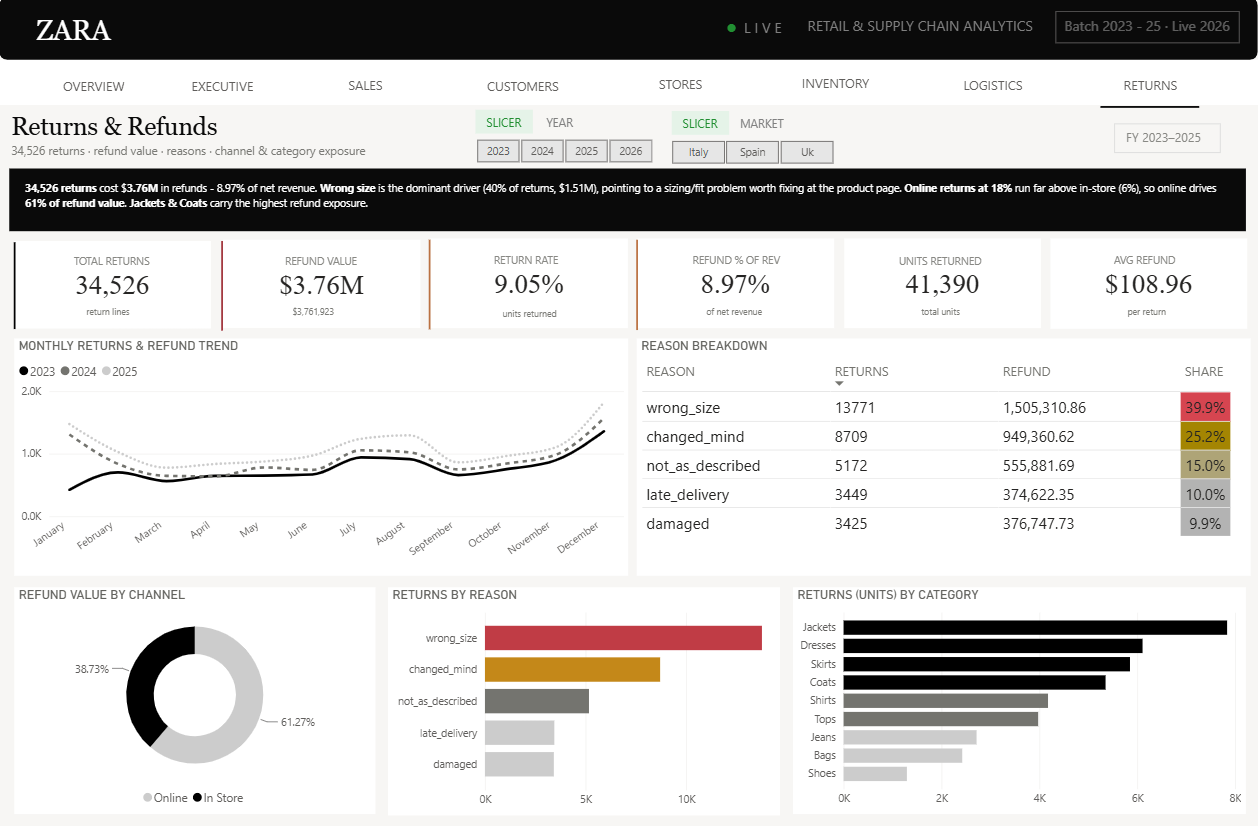

What the dashboard file says about the page in this screenshot:
{"tool":"powerbi","page":{"name":"RETURNS","canvas":[1440,950],"ordinal":7},"visuals":[{"type":"shape","box":[1.7,1.7,1438.3,71.7],"z":0},{"type":"textbox","box":[39.2,16.2,112.2,48.6],"z":1000},{"type":"shape","box":[0,73.3,1440,51.7],"z":2000},{"type":"textbox","box":[10,129.1,292.7,50.9],"z":3000},{"type":"textbox","box":[10,162.7,527.3,29.1],"z":4000},{"type":"textbox","box":[1275,146.2,121.2,33.8],"z":5000},{"type":"shape","box":[13.3,196.7,1413.3,71.7],"z":6000},{"type":"textbox","box":[26.1,204.3,1382.6,58],"z":7000},{"type":"card","fields":{"Values":["_Measures.Units Returned"]},"box":[967.7,277.7,224.6,102.3],"z":8000},{"type":"card","fields":{"Values":["_Measures.Refund % of Revenue"]},"box":[730,277.7,225.4,102.3],"z":9000},{"type":"card","fields":{"Values":["_Measures.Total Returns"]},"box":[18.5,280,224.6,100],"z":10000},{"type":"card","fields":{"Values":["_Measures.Refund Value"]},"box":[256.9,279.2,225.4,100.8],"z":11000},{"type":"card","fields":{"Values":["_Measures.Return Rate"]},"box":[493.8,277.7,225.4,102.3],"z":12000},{"type":"shape","box":[12.3,280.8,12.3,99.2],"z":13000},{"type":"textbox","box":[80.8,288.5,109.2,29.2],"z":14000},{"type":"textbox","box":[95.4,346.2,71.5,29.2],"z":15000},{"type":"textbox","box":[323.1,288.5,110,29.2],"z":16000},{"type":"textbox","box":[561.1,287.8,100,30],"z":17000},{"type":"textbox","box":[788.3,287.8,129.4,30],"z":18000},{"type":"textbox","box":[804.4,345.6,83.9,28.9],"z":19000},{"type":"textbox","box":[1023.8,288.5,139.2,29.2],"z":20000},{"type":"textbox","box":[1049.4,346.1,67.2,27.8],"z":21000},{"type":"card","fields":{"Values":["_Measures.Avg Refund per Return"]},"box":[1202.3,276.9,224.6,103.1],"z":22000},{"type":"textbox","box":[1270,287.8,88.3,30],"z":23000},{"type":"textbox","box":[1286.1,346.1,56.1,27.8],"z":24000},{"type":"shape","box":[487.8,278.3,12.2,102.8],"z":25000},{"type":"textbox","box":[571.1,346.7,76.7,28.9],"z":26000},{"type":"lineChart","title":"MONTHLY RETURNS & REFUND TREND","fields":{"Category":["gold dim_date.full_date.Variation.Date Hierarchy.Year","gold dim_date.full_date.Variation.Date Hierarchy.Quarter","gold dim_date.full_date.Variation.Date Hierarchy.Month","gold dim_date.full_date.Variation.Date Hierarchy.Day"],"Series":["gold dim_date.year"],"Y":["_Measures.Total Returns"]},"box":[18.8,391.3,701.4,271],"z":27000},{"type":"donutChart","title":"REFUND VALUE BY CHANNEL","fields":{"Category":["gold dim_channel.channel_name"],"Y":["_Measures.Refund Value"]},"box":[18.8,675.4,413,259.4],"z":28000},{"type":"clusteredBarChart","title":"RETURNS BY REASON","fields":{"Category":["gold fact_returns.reason"],"Y":["_Measures.Total Returns"]},"box":[446.4,675.4,447.8,260.9],"z":29000},{"type":"barChart","title":"RETURNS (UNITS) BY CATEGORY","fields":{"Y":["_Measures.Units Returned"],"Category":["gold dim_products.category"]},"box":[908.7,675.4,517.4,259.4],"z":30000},{"type":"textbox","box":[332,346,86,34],"z":31000},{"type":"shape","box":[724.4,278.3,12.2,103.3],"z":32000},{"type":"shape","box":[250.6,279.4,12.2,102.8],"z":33000},{"type":"tableEx","title":"REASON BREAKDOWN","fields":{"Values":["gold fact_returns.reason","_Measures.Total Returns","_Measures.Refund Value","_Measures.Returns Share %"]},"box":[730,391.2,701.2,271.2],"z":34000},{"type":"shape","box":[1260,104.3,112.9,45],"z":35000},{"type":"actionButton","box":[182.9,75.7,147.4,53.9],"z":36000},{"type":"actionButton","box":[330.4,74.3,179.7,54.1],"z":37000},{"type":"actionButton","box":[510.1,75.7,179.7,54.1],"z":38000},{"type":"actionButton","box":[689.6,73.2,180,54.7],"z":39000},{"type":"actionButton","box":[867.5,71.6,180,54.7],"z":40000},{"type":"actionButton","box":[1047.6,73.8,180,54.3],"z":41000},{"type":"actionButton","box":[1226.7,75,180,54.4],"z":42000},{"type":"actionButton","box":[35.6,75.6,147.4,53.7],"z":43000},{"type":"textbox","box":[1208.3,16.7,210,36.7],"z":44000},{"type":"textbox","box":[911.7,16.7,283.3,36.7],"z":45000},{"type":"textbox","box":[826.7,16.7,85,36.7],"z":46000},{"type":"slicer","fields":{"Values":["gold dim_customers.country"]},"box":[743.6,158.2,234.5,34.5],"z":46004},{"type":"textbox","box":[770,130.9,65.5,27.3],"z":46005},{"type":"textbox","box":[842.2,131.1,70,31.1],"z":46006},{"type":"slicer","fields":{"Values":["gold dim_date.full_date.Variation.Date Hierarchy.Year"]},"box":[520.9,157.3,250,34.5],"z":46007},{"type":"textbox","box":[546.4,130,65.5,27.3],"z":46008},{"type":"textbox","box":[620.9,130,49.1,27.3],"z":46009}]}

Visuals, with their boxes in screenshot pixels (x1, y1, x2, y2), scaled from the page's 1440x950 canvas onto the 1258x826 screenshot:
shape: 1/1/1257/64
textbox: 34/14/132/56
shape: 0/64/1257/109
textbox: 9/112/264/157
textbox: 9/141/469/167
textbox: 1114/127/1220/157
shape: 12/171/1246/233
textbox: 23/178/1231/228
card - _Measures.Units Returned: 845/241/1042/330
card - _Measures.Refund % of Revenue: 638/241/835/330
card - _Measures.Total Returns: 16/243/212/330
card - _Measures.Refund Value: 224/243/421/330
card - _Measures.Return Rate: 431/241/628/330
shape: 11/244/21/330
textbox: 71/251/166/276
textbox: 83/301/146/326
textbox: 282/251/378/276
textbox: 490/250/578/276
textbox: 689/250/802/276
textbox: 703/300/776/326
textbox: 894/251/1016/276
textbox: 917/301/975/325
card - _Measures.Avg Refund per Return: 1050/241/1247/330
textbox: 1109/250/1187/276
textbox: 1124/301/1173/325
shape: 426/242/437/331
textbox: 499/301/566/327
"MONTHLY RETURNS & REFUND TREND" lineChart: 16/340/629/576
"REFUND VALUE BY CHANNEL" donutChart: 16/587/377/813
"RETURNS BY REASON" clusteredBarChart: 390/587/781/814
"RETURNS (UNITS) BY CATEGORY" barChart: 794/587/1246/813
textbox: 290/301/365/330
shape: 633/242/644/332
shape: 219/243/230/332
"REASON BREAKDOWN" tableEx: 638/340/1250/576
shape: 1101/91/1199/130
actionButton: 160/66/289/113
actionButton: 289/65/446/112
actionButton: 446/66/603/113
actionButton: 602/64/760/111
actionButton: 758/62/915/110
actionButton: 915/64/1072/111
actionButton: 1072/65/1229/113
actionButton: 31/66/160/112
textbox: 1056/15/1239/46
textbox: 796/15/1044/46
textbox: 722/15/796/46
slicer - gold dim_customers.country: 650/138/854/168
textbox: 673/114/730/138
textbox: 736/114/797/141
slicer - gold dim_date.full_date.Variation.Date Hierarchy.Year: 455/137/673/167
textbox: 477/113/535/137
textbox: 542/113/585/137
